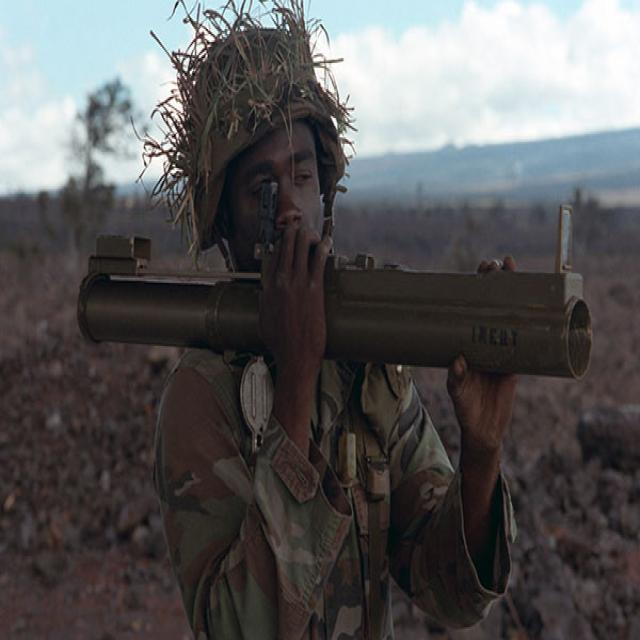bazooka: (66, 221, 640, 410)
